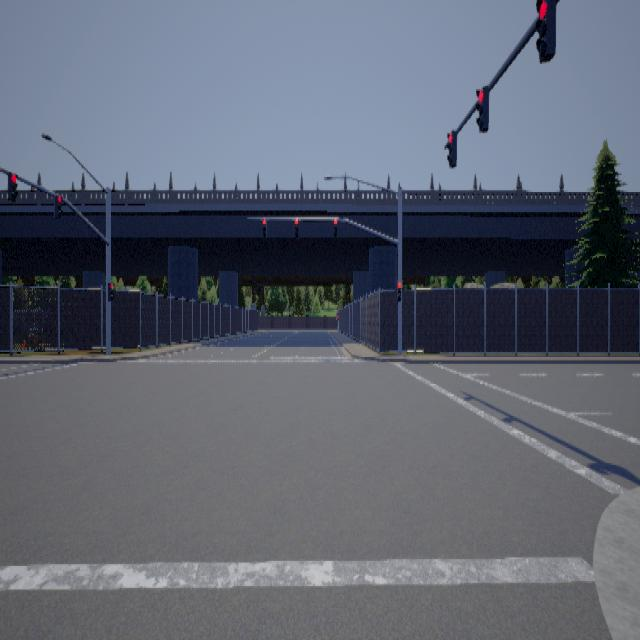red_light: (535, 0, 555, 62), (475, 85, 488, 132), (445, 128, 456, 167), (7, 170, 17, 201), (53, 194, 62, 217), (107, 281, 113, 300), (294, 218, 298, 238), (262, 218, 266, 238), (397, 282, 401, 300), (334, 218, 336, 238)
